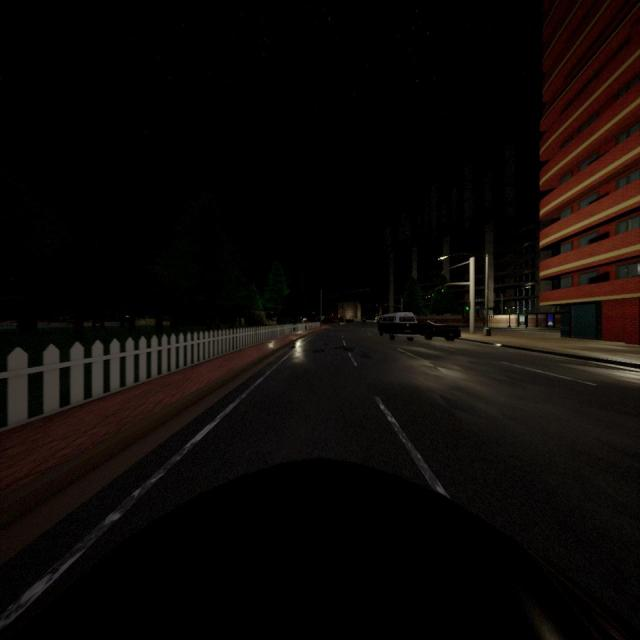Vehicle: (0, 459, 640, 640), (378, 312, 418, 342), (418, 317, 462, 342), (323, 314, 340, 326)
traffic_light: (465, 306, 469, 311), (442, 289, 444, 293), (426, 296, 428, 299), (432, 294, 434, 296)
